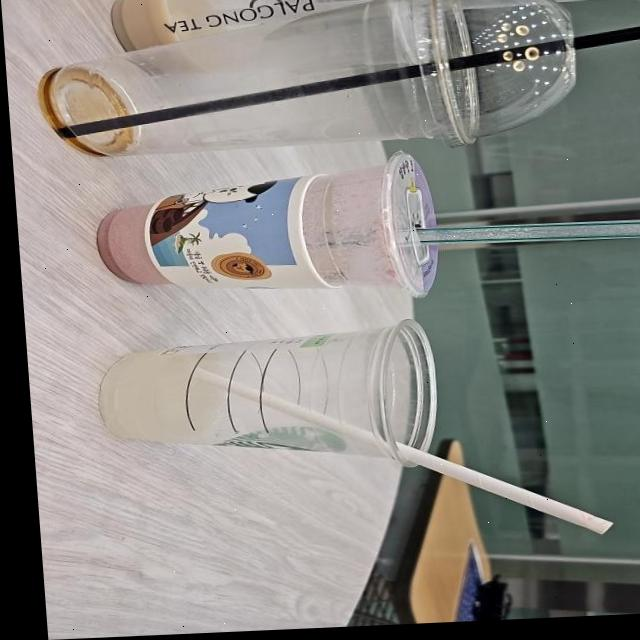cup: (81, 137, 459, 320), (81, 313, 451, 497)
